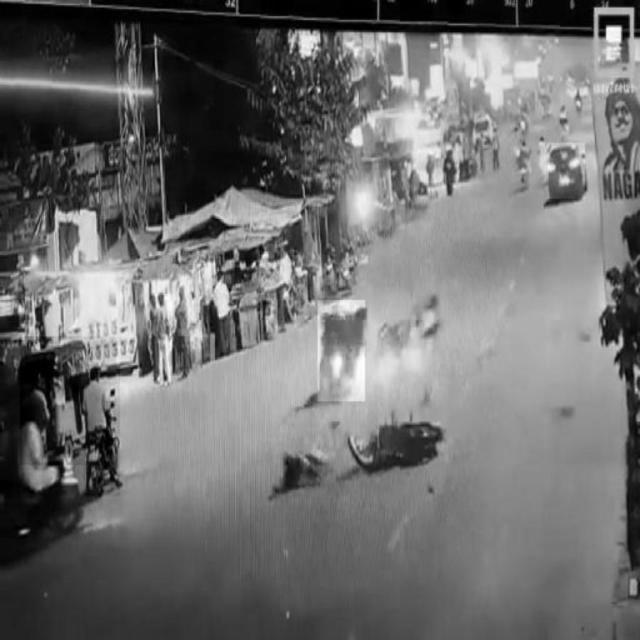vehicle: (21, 336, 117, 464), (318, 300, 365, 401), (84, 366, 120, 496), (548, 143, 585, 199), (155, 294, 172, 386)
